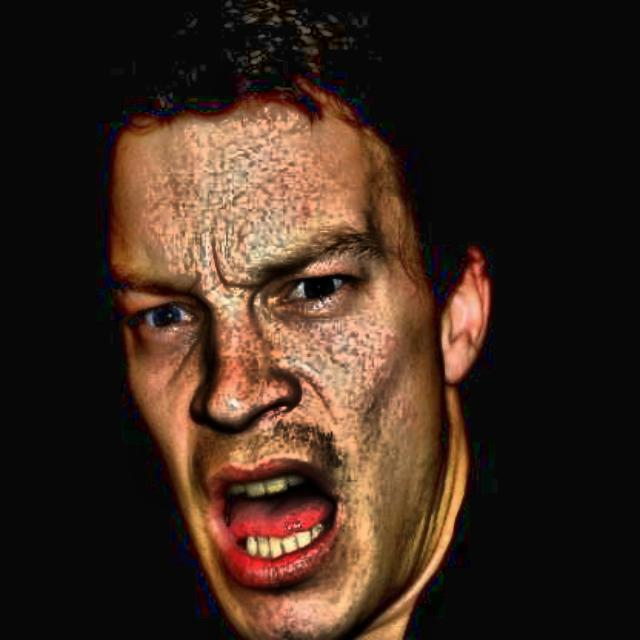angry: (71, 31, 514, 640)
